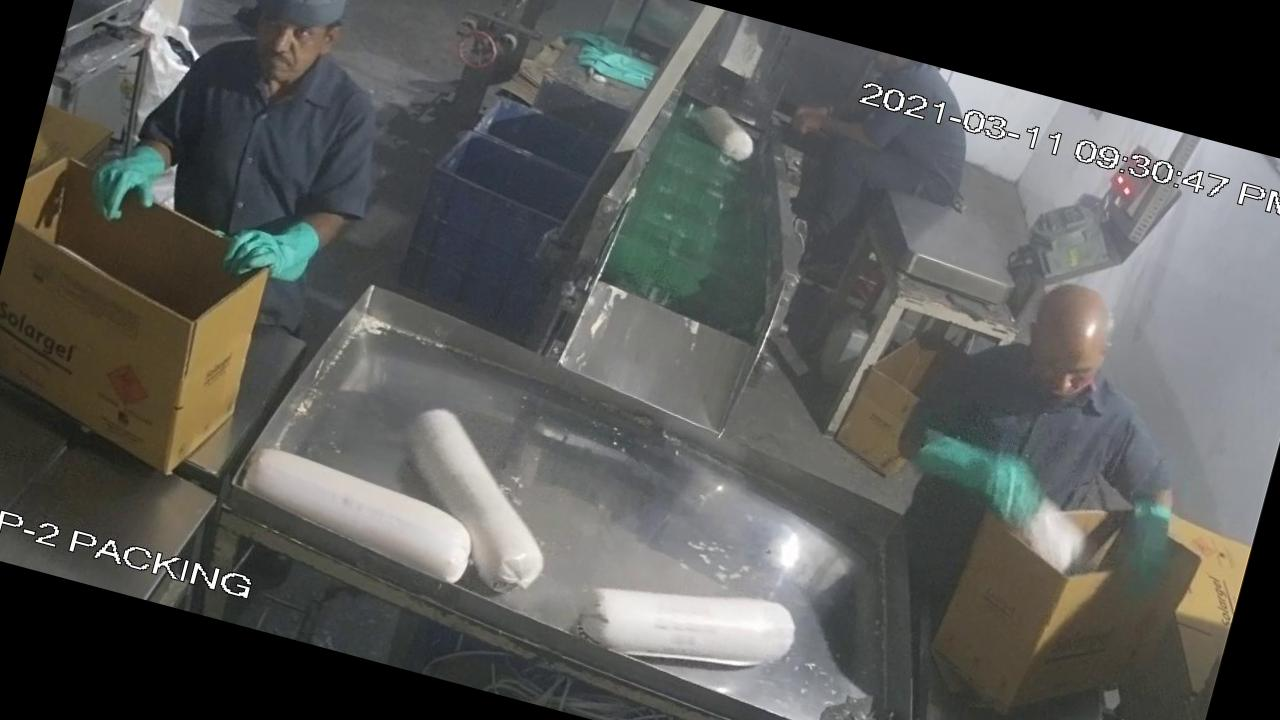Gloves: (888, 419, 1053, 539), (217, 189, 343, 313), (1102, 485, 1192, 612)
No-gloves: (787, 96, 897, 174)
